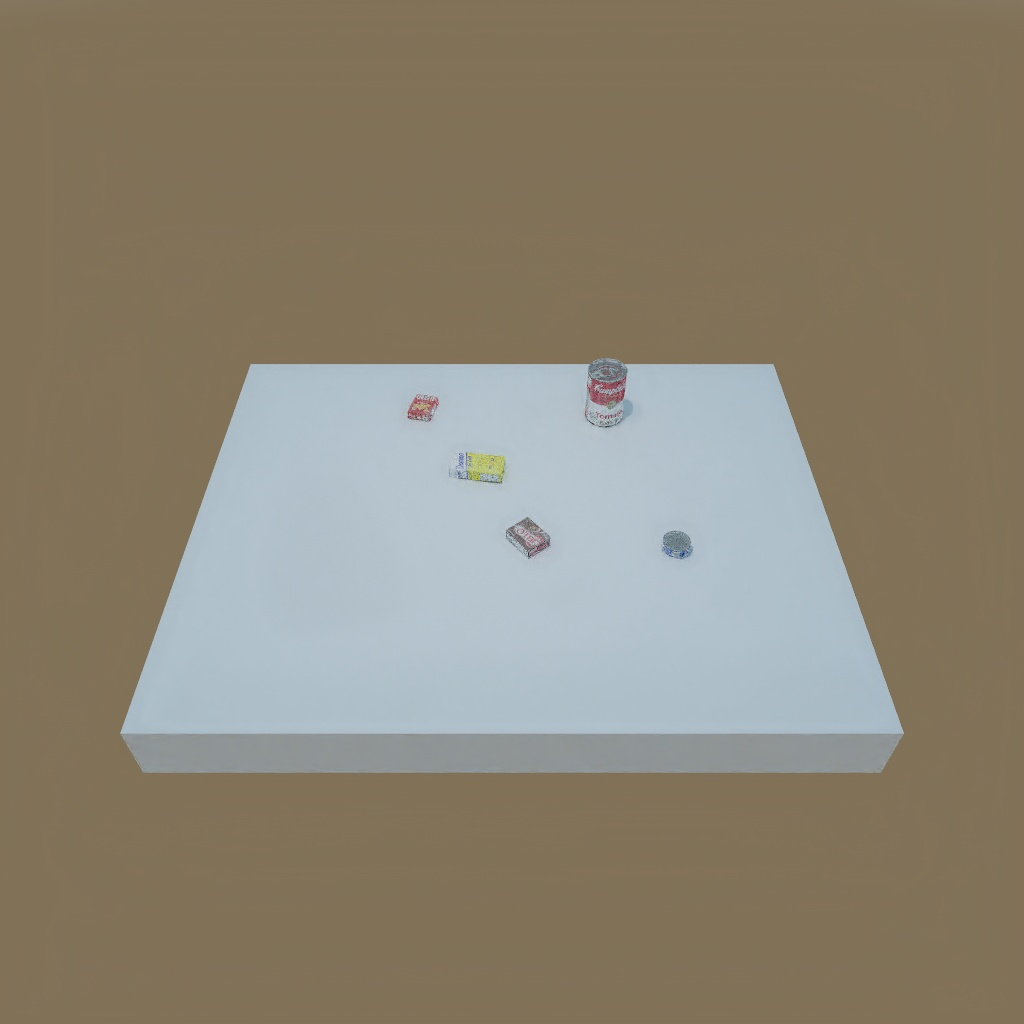pudding_box: (504, 515, 552, 559)
tomato_soup_can: (582, 356, 634, 430)
